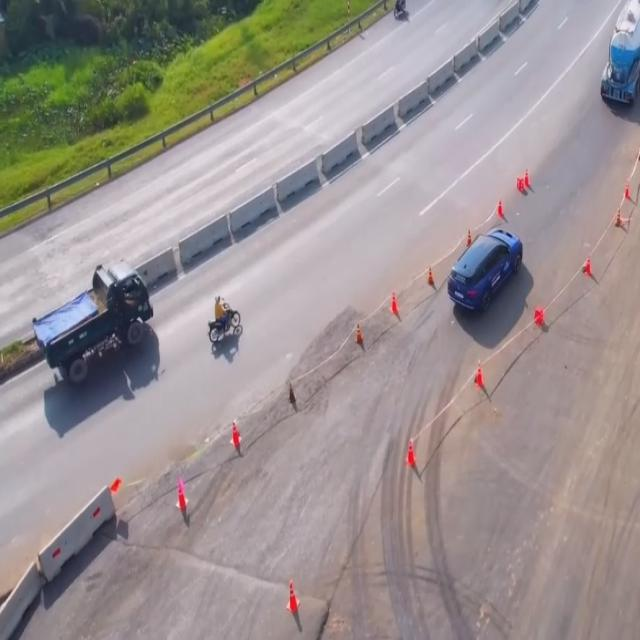car: (448, 228, 523, 315)
motorbike: (204, 294, 240, 346), (392, 0, 408, 24)
truck: (30, 258, 151, 387), (600, 0, 639, 109)
